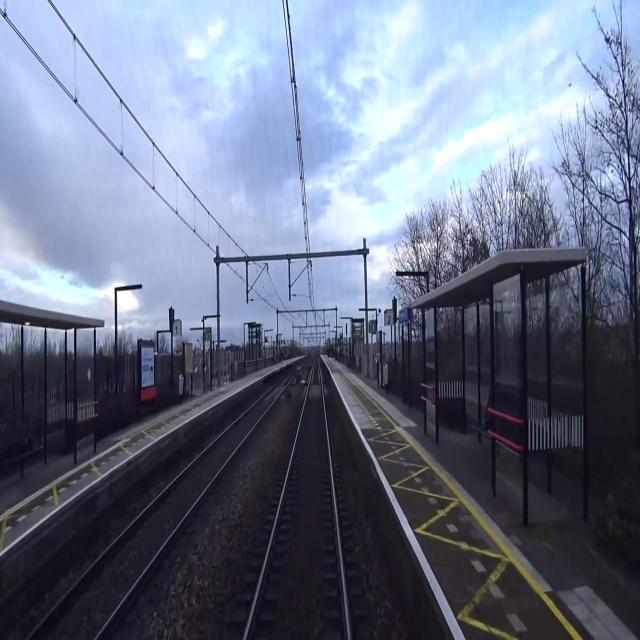rail-track: (31, 371, 293, 639), (247, 356, 347, 639)
